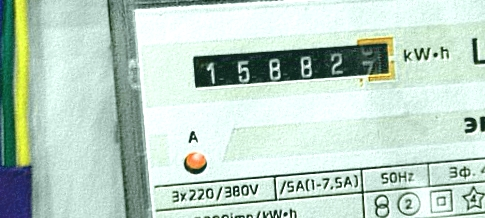1: (205, 59, 218, 86)
2: (328, 51, 346, 77)
5: (236, 58, 251, 85)
7: (360, 58, 376, 76)
8: (267, 56, 284, 82), (298, 54, 315, 80)
screen: (183, 31, 405, 102)
